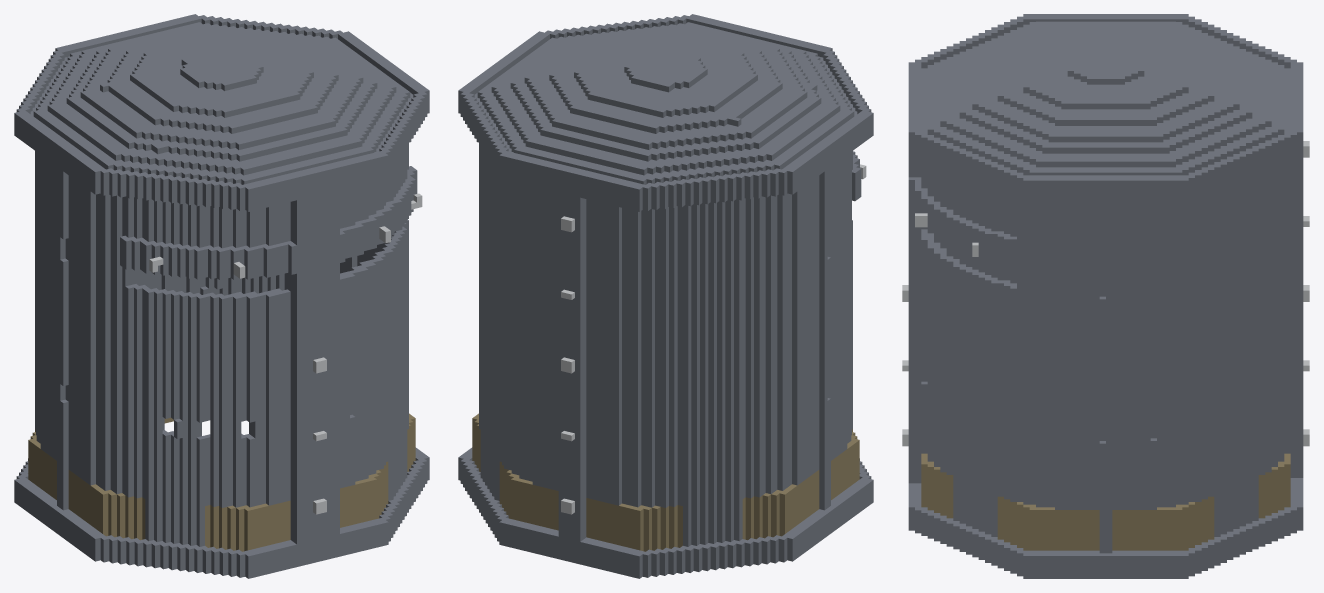
The model's file is ch_helmet_metal_sheets_full.glb.
The picture shows the model from 3 angles, left to right: view 1: azimuth 30°, elevation 25°; view 2: azimuth 150°, elevation 25°; view 3: azimuth 270°, elevation 25°; orthographic projection. The views are drawn at different scales.
Visible parts, largest first — view 1: ch_helmet_metal_sheets_full:compound; view 2: ch_helmet_metal_sheets_full:compound; view 3: ch_helmet_metal_sheets_full:compound.
Boxes of the visible parts, x1,y1,x2,y2 form: ch_helmet_metal_sheets_full:compound: (14,14,429,578); ch_helmet_metal_sheets_full:compound: (458,14,873,578); ch_helmet_metal_sheets_full:compound: (902,14,1309,578).
Bounding box in the file's own units: 0.248 × 0.3 × 0.256.
